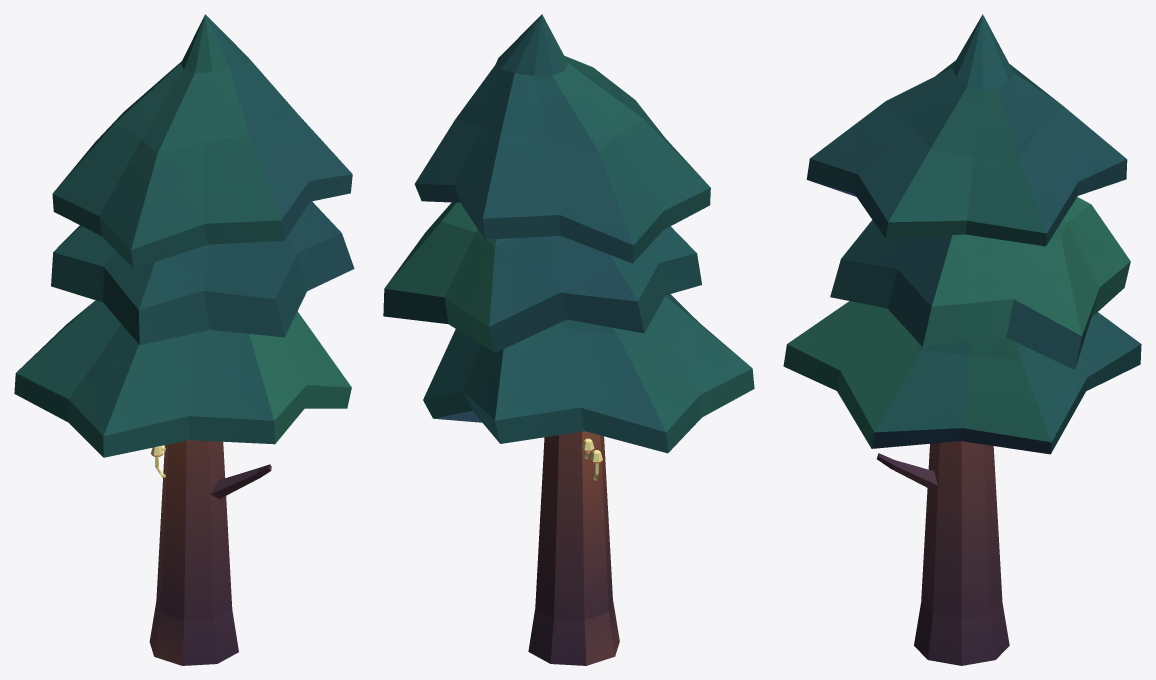
Rendered from PineTree06.fbx.
3 renders of one model, left to right at view 1: azimuth 30°, elevation 25°; view 2: azimuth 150°, elevation 25°; view 3: azimuth 270°, elevation 25°, orthographic. The views are drawn at different scales.
Parts seen in each view (by area): view 1: PineTreeTrunk; view 2: PineTreeTrunk; view 3: PineTreeTrunk.
Boxes of the visible parts, x1,y1,x2,y2 form: PineTreeTrunk: (14,14,354,665); PineTreeTrunk: (383,14,754,665); PineTreeTrunk: (783,14,1141,665).
Bounding box in the file's own units: 178 × 380 × 192.
